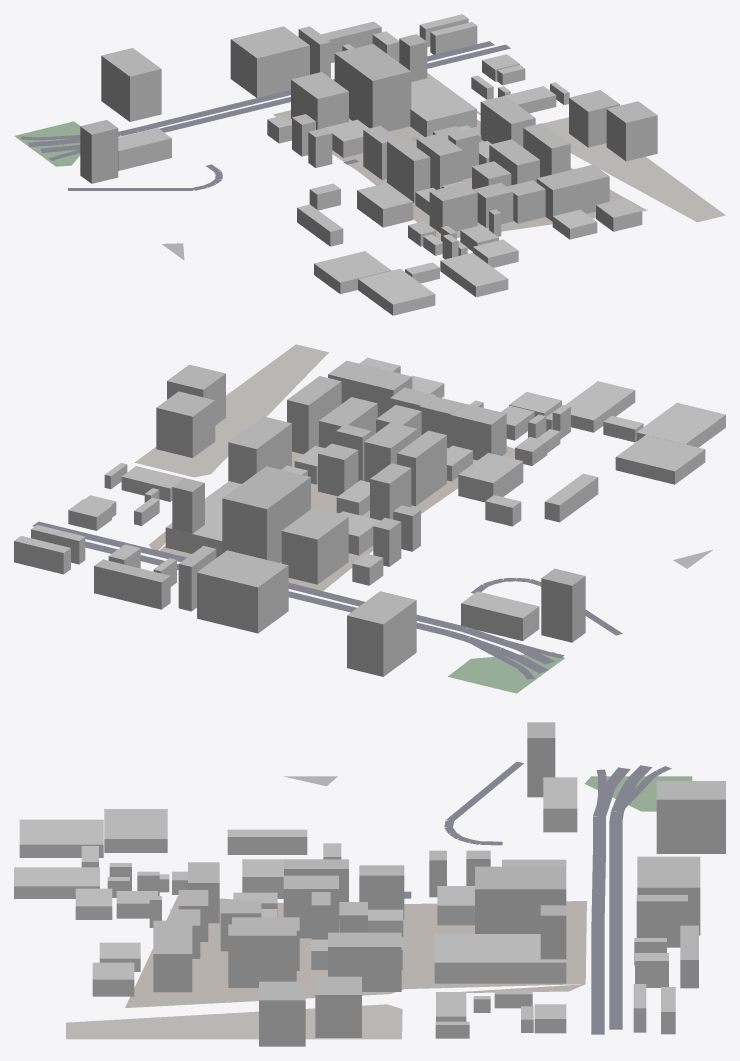
The model's file is 127_111_mid.glb.
The picture shows the model from 3 angles, top to bottom: view 1: azimuth 30°, elevation 25°; view 2: azimuth 150°, elevation 25°; view 3: azimuth 270°, elevation 25°; orthographic projection. The views are drawn at different scales.
Bounding box in the file's own units: 534 × 59.05 × 568.
